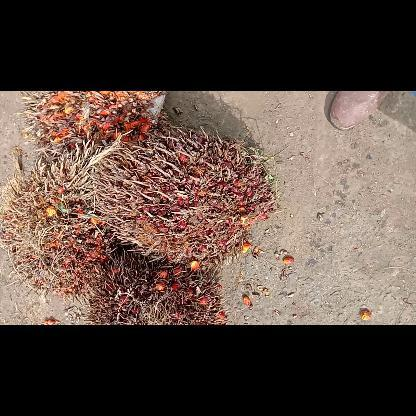Terlalu masak: (93, 126, 275, 268), (0, 139, 111, 295), (84, 250, 224, 324), (20, 90, 166, 150)
